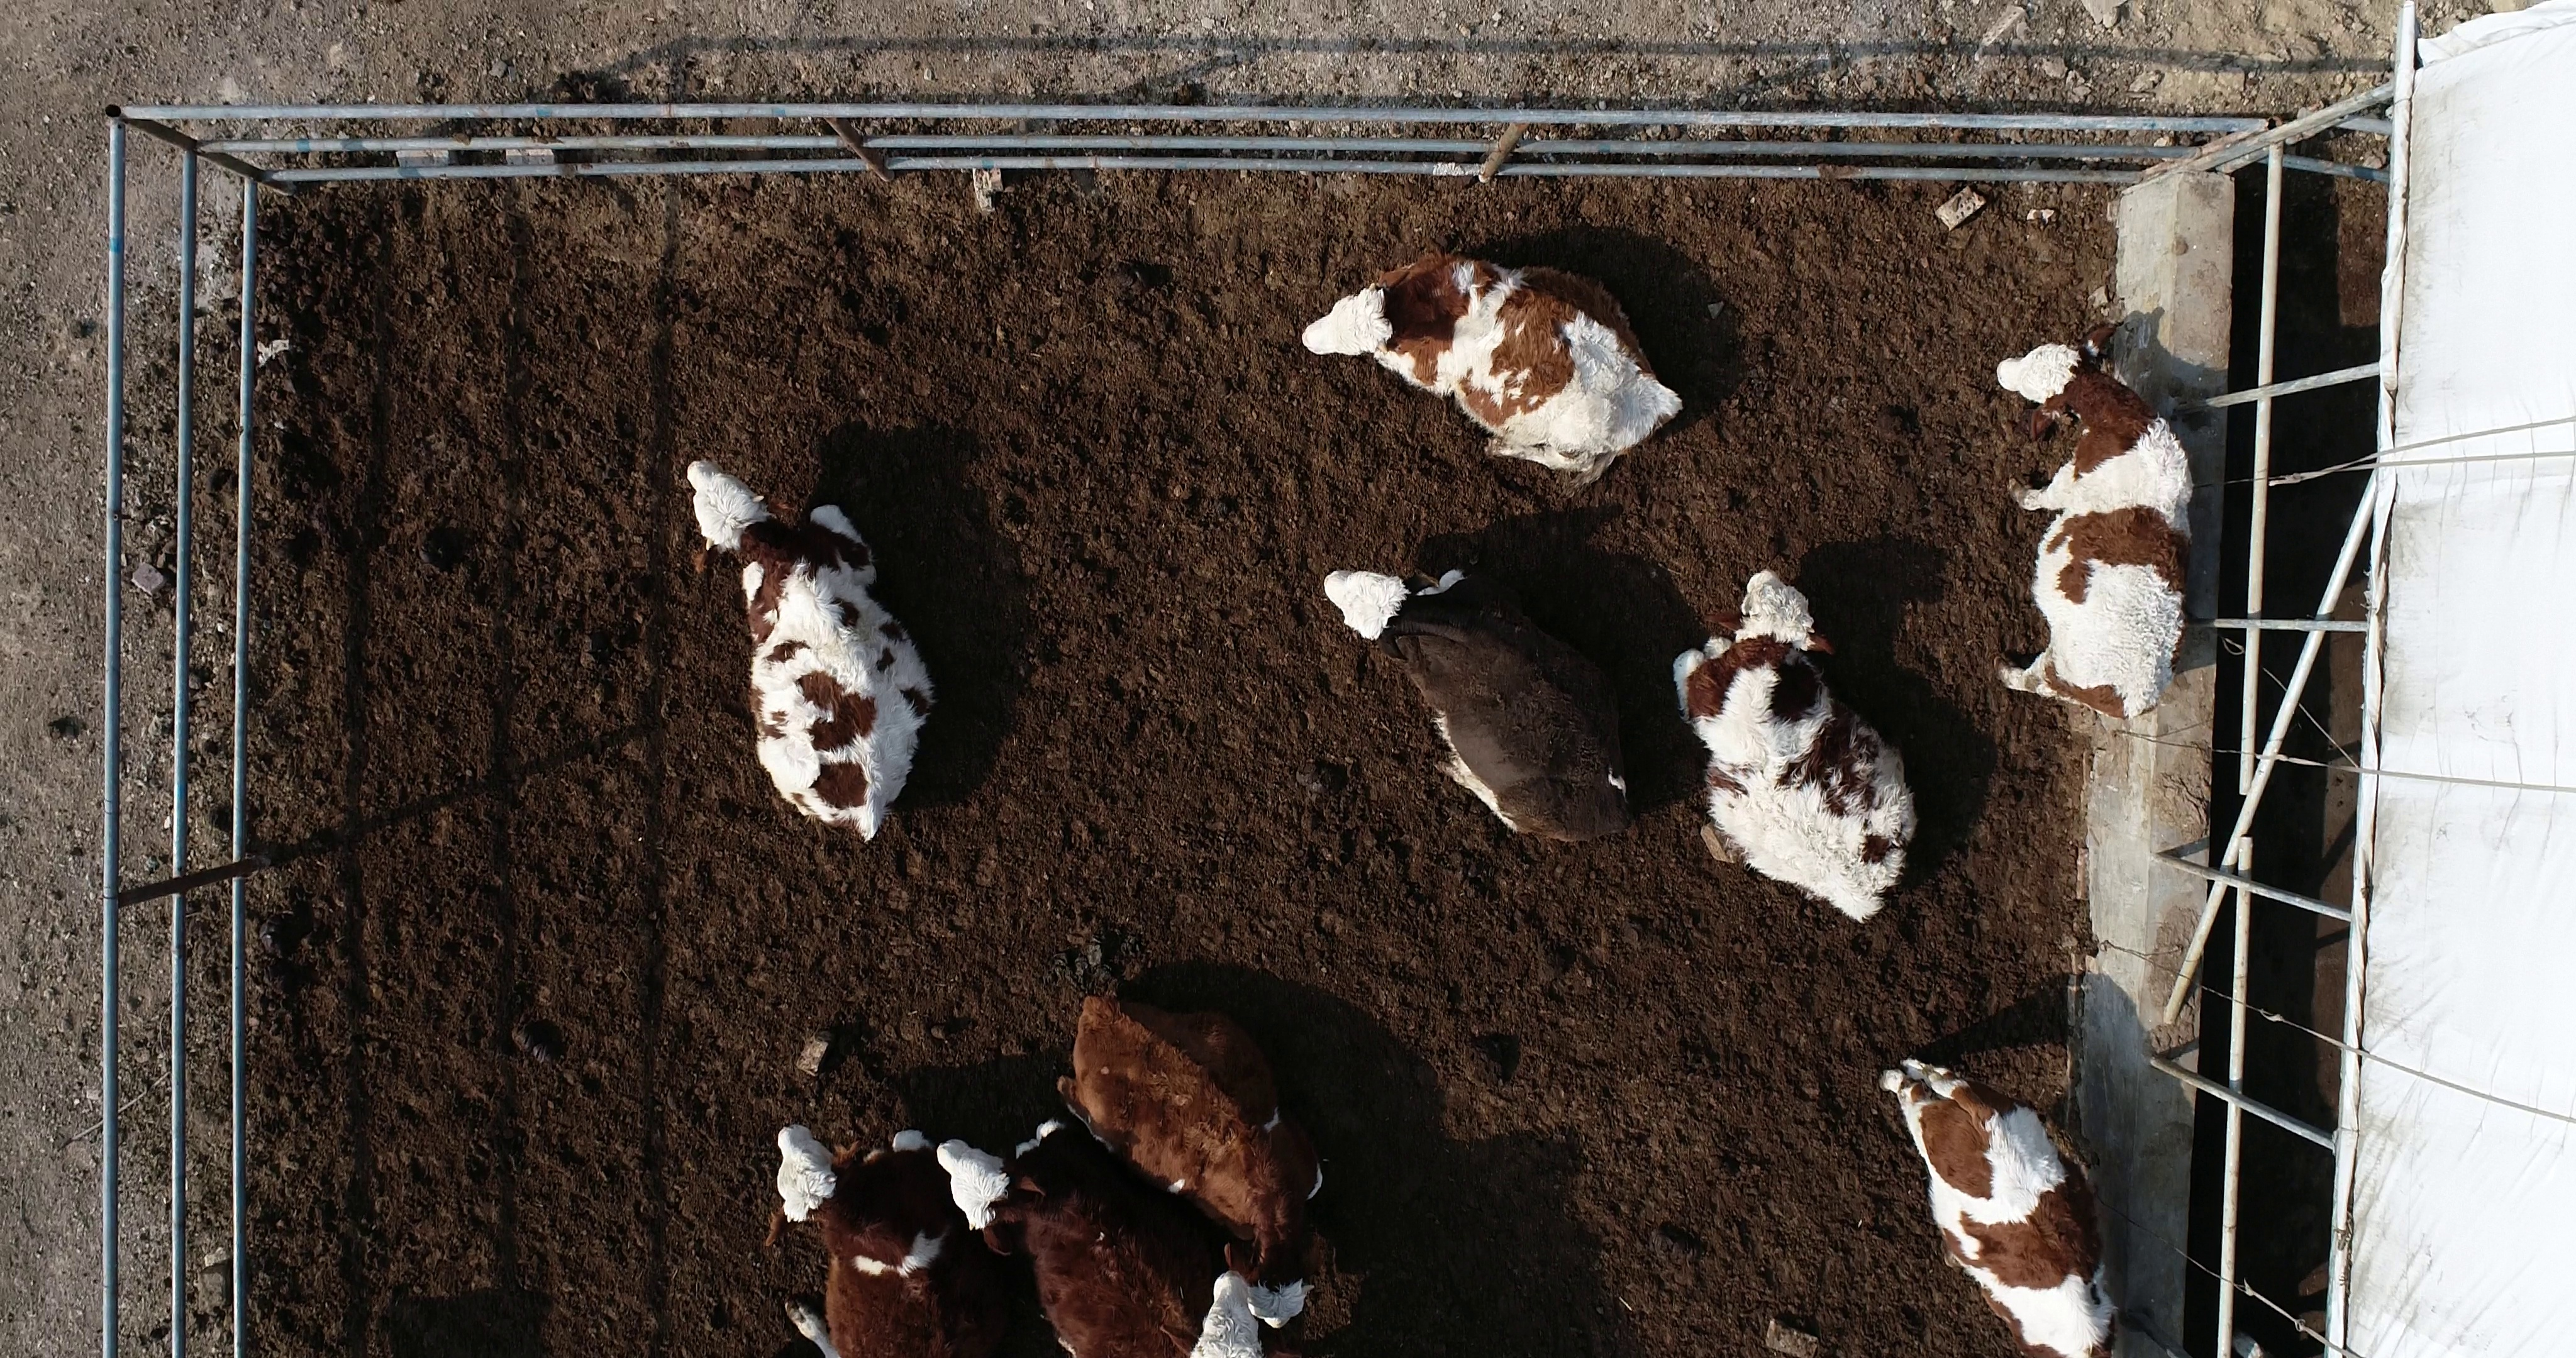cattle: (680, 457, 939, 857), (1049, 980, 1332, 1332), (1315, 550, 1649, 847), (1290, 245, 1688, 489), (1665, 564, 1922, 934), (1985, 314, 2206, 734), (1872, 1053, 2133, 1355)
